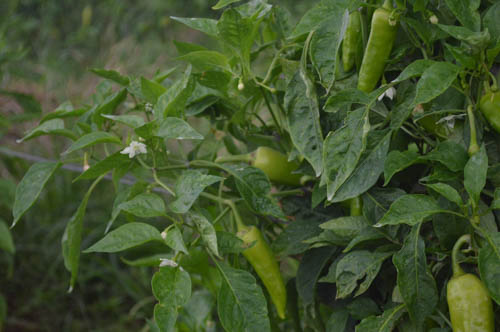ChiliPepper: (238, 227, 287, 315), (360, 9, 397, 91), (250, 146, 307, 187), (450, 275, 489, 332), (341, 11, 360, 72)
